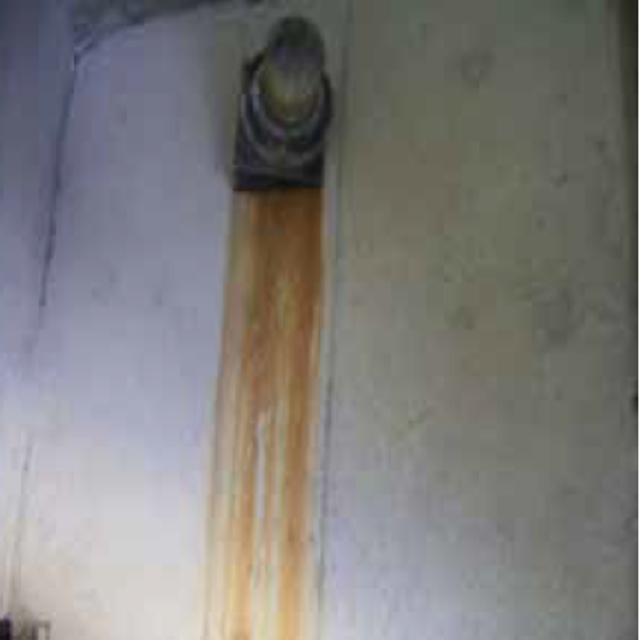leakage: (214, 187, 317, 640)
